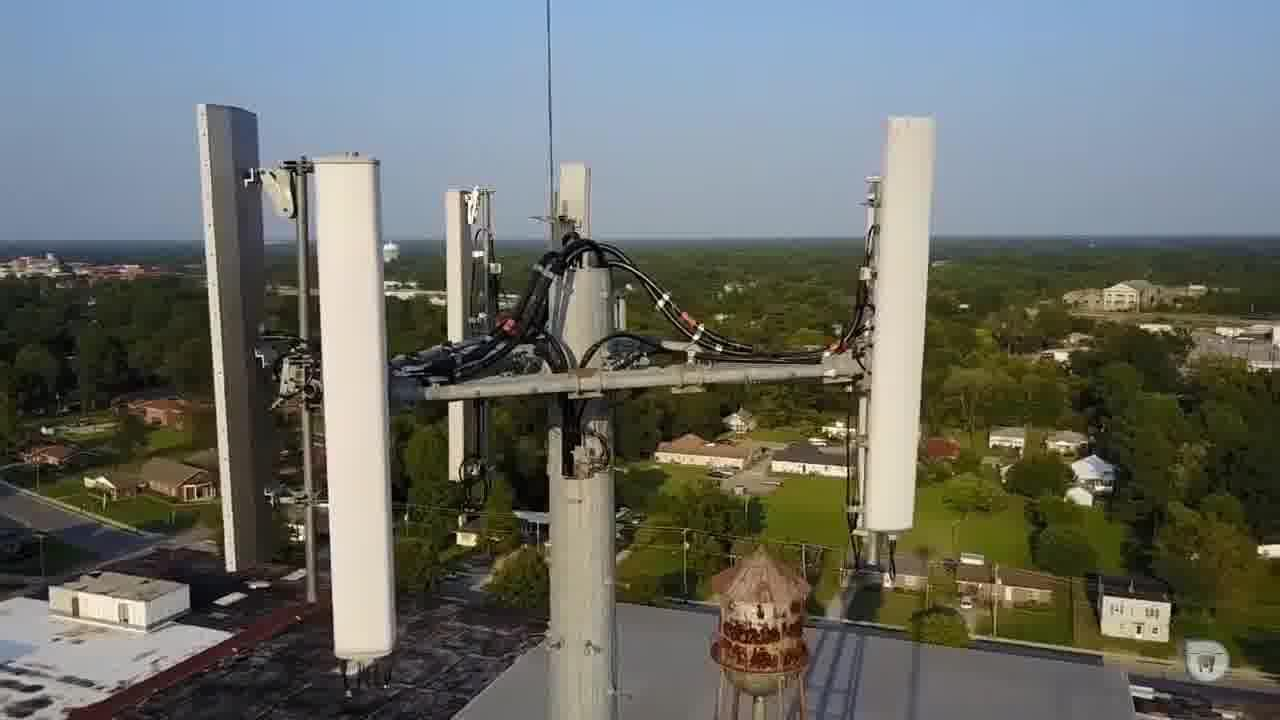antenna: (295, 152, 415, 661), (175, 101, 287, 578), (854, 103, 952, 548), (449, 189, 487, 494), (557, 161, 602, 286)
